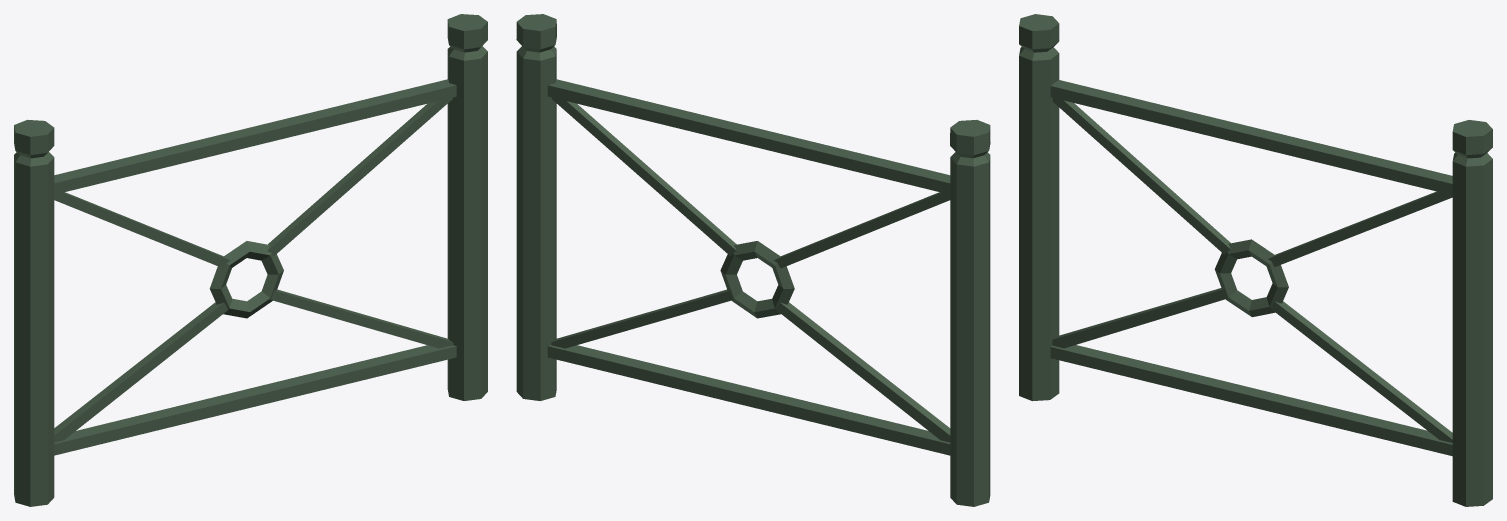
File: Fence.fbx
The picture shows the model from 3 angles, left to right: view 1: azimuth 30°, elevation 25°; view 2: azimuth 150°, elevation 25°; view 3: azimuth 330°, elevation 25°; orthographic projection.
Parts seen in each view (by area): view 1: Fence_01; view 2: Fence_01; view 3: Fence_01.
Part boxes in pixels (x1,y1,x2,y2): Fence_01: (14, 14, 487, 506); Fence_01: (516, 14, 990, 506); Fence_01: (1019, 14, 1492, 506).
Bounding box in the file's own units: 104 × 78.29 × 7.83.
1 material, 1 textured.
